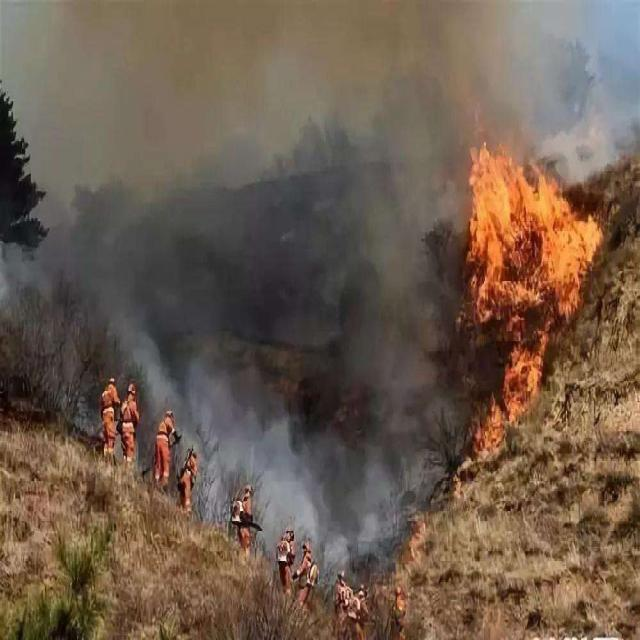Fire: (466, 141, 604, 453)
Smoke: (1, 1, 640, 597)
